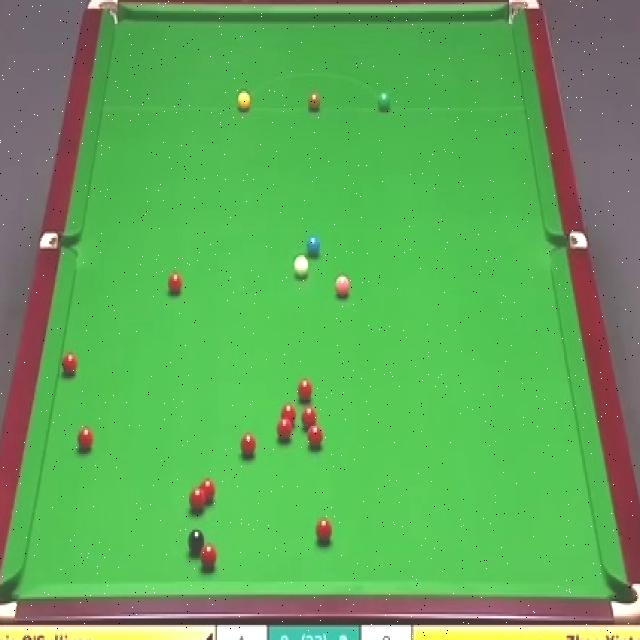black-ball: (187, 528, 206, 557)
blue-ball: (305, 234, 322, 260)
brown-ball: (307, 92, 322, 114)
green-ball: (375, 91, 390, 114)
pink-ball: (333, 270, 353, 300)
red-ball: (199, 544, 219, 573), (76, 424, 94, 454), (187, 488, 207, 514), (60, 350, 78, 378), (315, 518, 332, 545), (240, 435, 258, 460), (167, 270, 184, 296), (297, 377, 314, 403), (200, 477, 218, 501), (276, 418, 293, 443), (279, 403, 297, 426), (308, 424, 324, 448), (300, 407, 318, 428)
white-ball: (292, 253, 309, 281)
yellow-ball: (237, 90, 252, 113)
